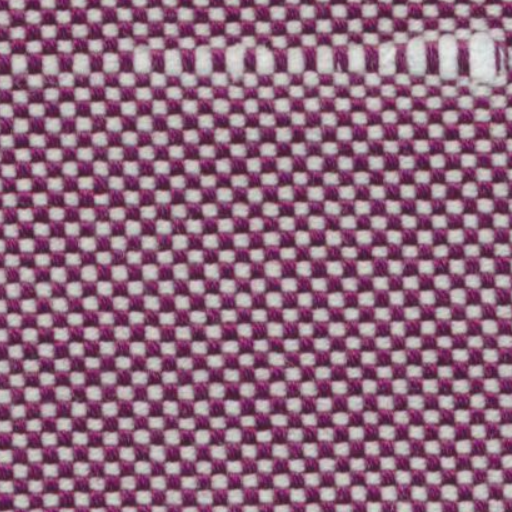DaiSha: (26, 26, 502, 98)
